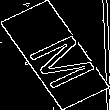M_NE: (14, 23, 96, 87)
